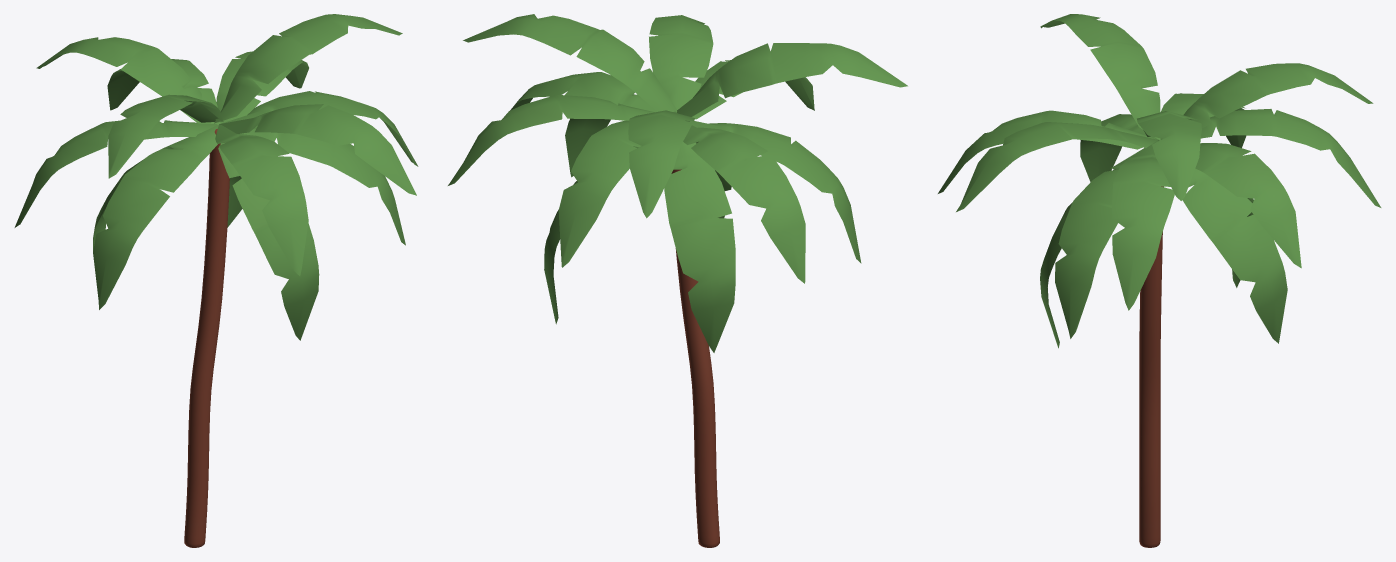
File: Palm3.fbx
3 views of the same model, side by side, from view 1: azimuth 30°, elevation 25°; view 2: azimuth 150°, elevation 25°; view 3: azimuth 270°, elevation 25° (orthographic). The views are drawn at different scales.
Visible parts, largest first — view 1: Foglie, Trunk; view 2: Foglie, Trunk; view 3: Foglie, Trunk.
Boxes of the visible parts, x1,y1,x2,y2 form: Foglie: [14, 14, 418, 340]; Trunk: [184, 129, 229, 547]; Foglie: [448, 14, 907, 352]; Trunk: [671, 169, 719, 547]; Foglie: [938, 14, 1381, 348]; Trunk: [1139, 186, 1163, 547].
Size of the model in its own units: 285 by 360 by 296.
